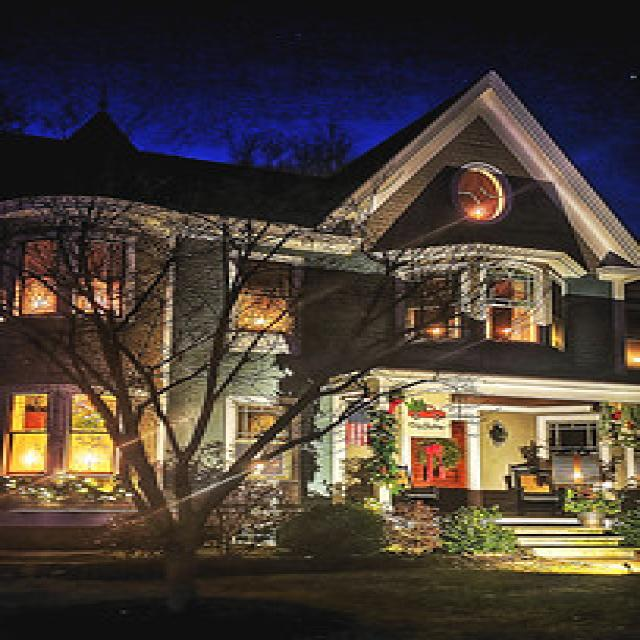building: (3, 65, 640, 583)
